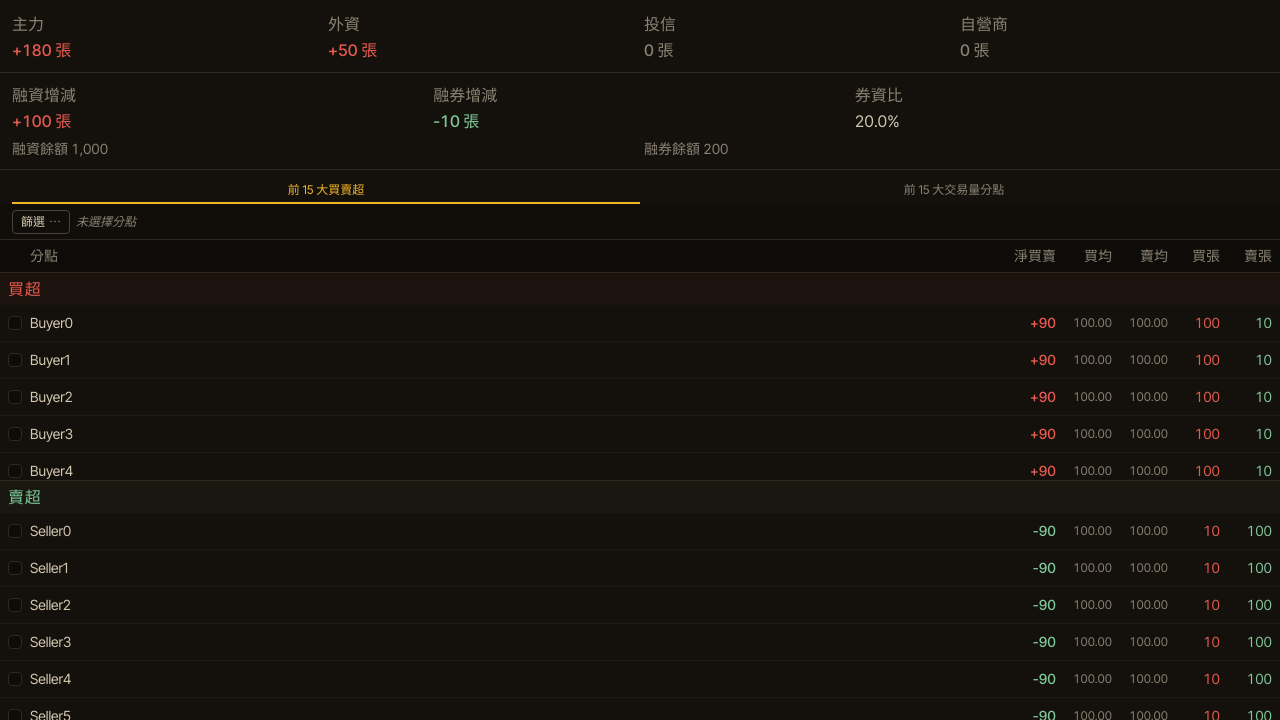
ChipBrokersPanel F5 — buyers + sellers in separate scrollable halves › volume mode renders ONE scrollable list (no buyers/sellers split)
The image size is (1280, 720).
Click the button "前 15 大交易量分點": (954, 191) [640,178,1268,204]
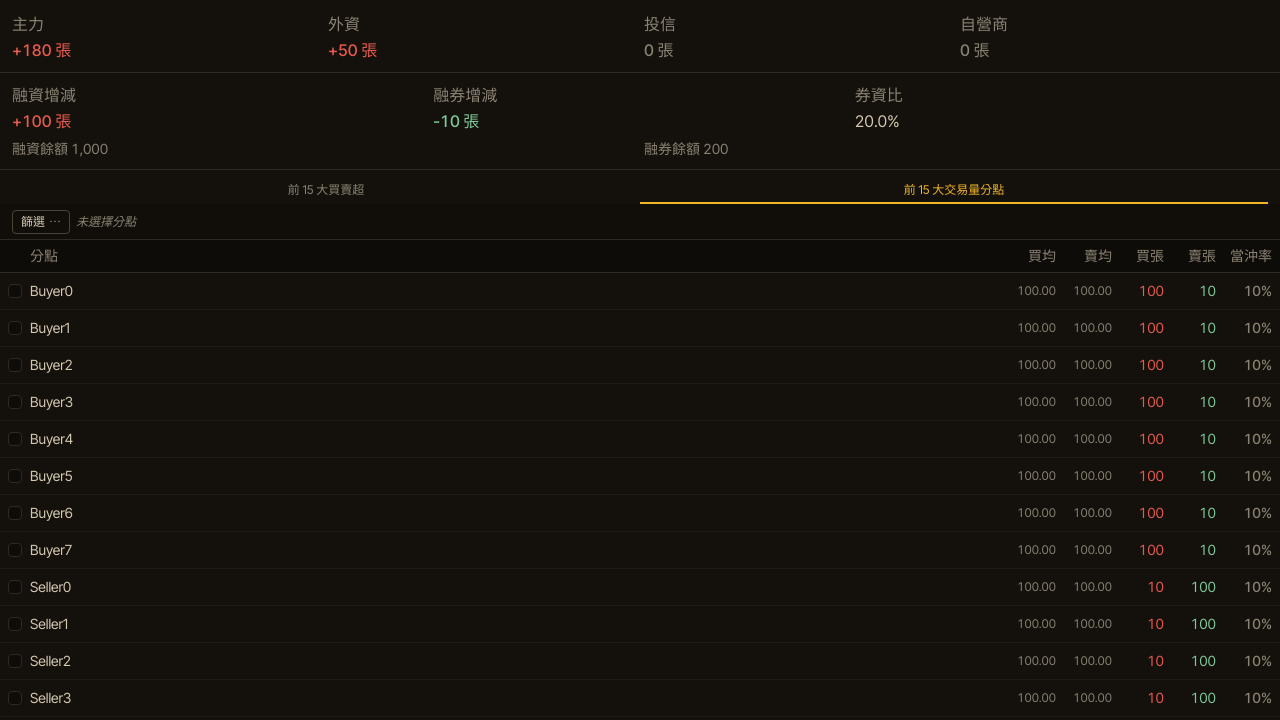
Expected: the element with test id "sellers-scroll" is gone
